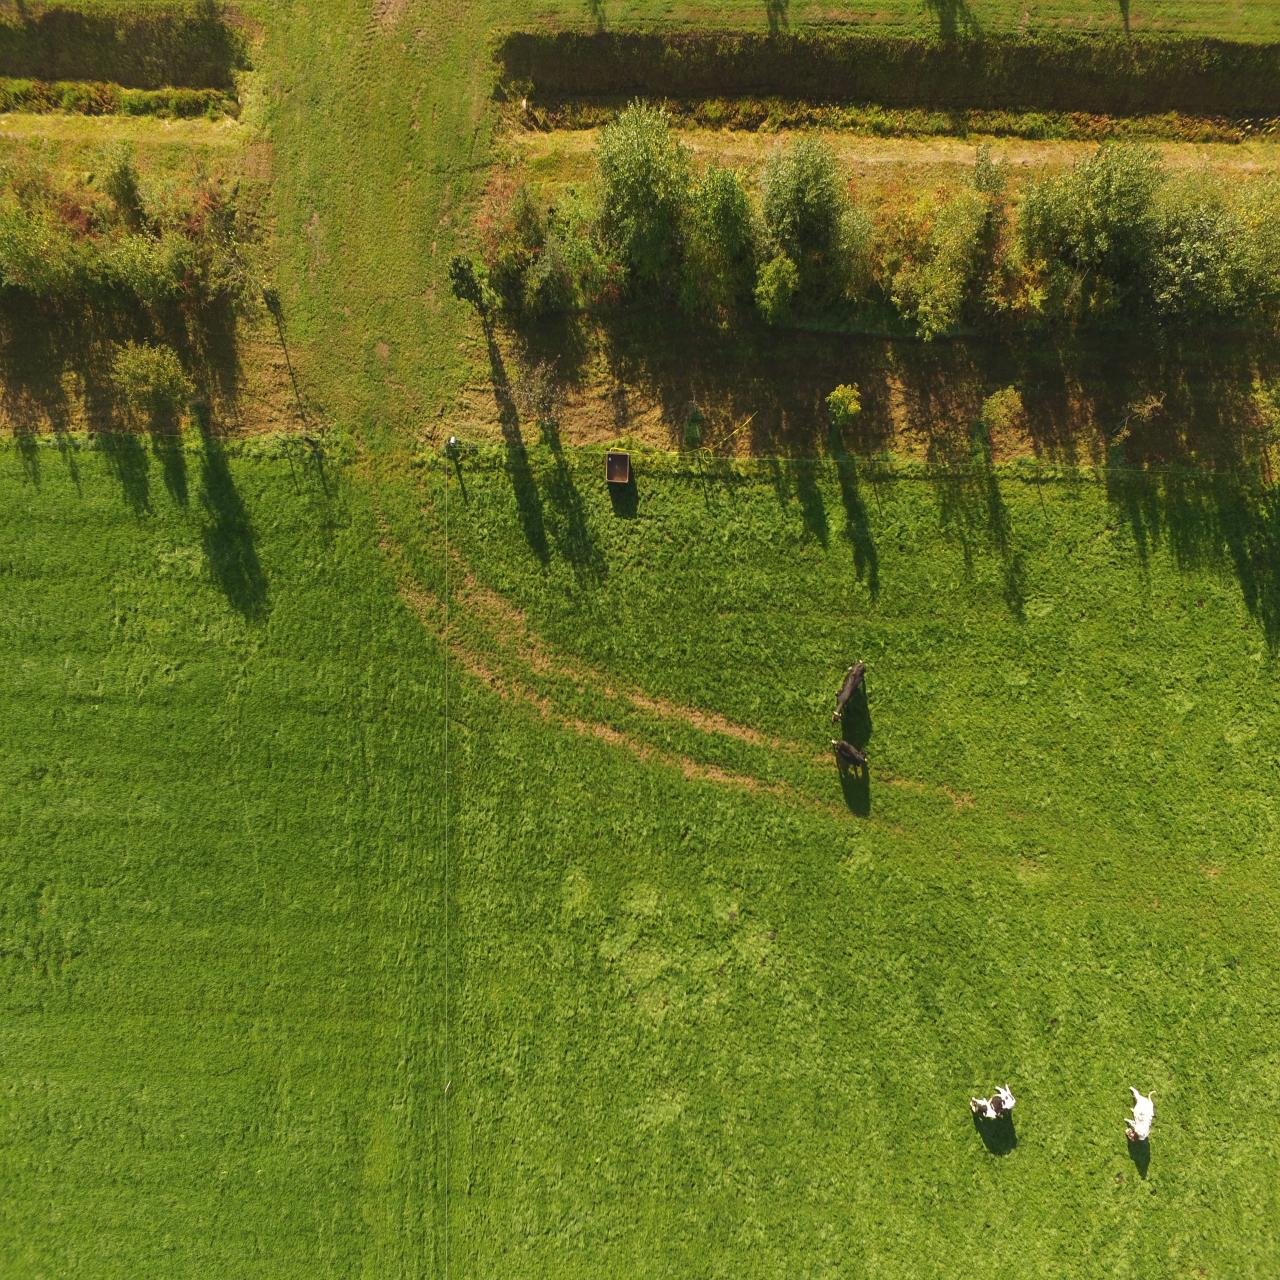cow: (1110, 1085, 1170, 1151), (819, 655, 873, 727), (960, 1077, 1027, 1131), (832, 738, 880, 791)
